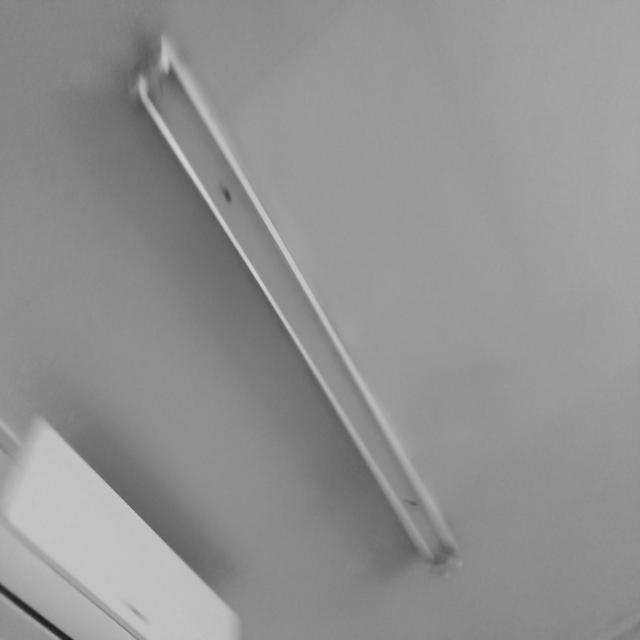light: (133, 32, 463, 570)
